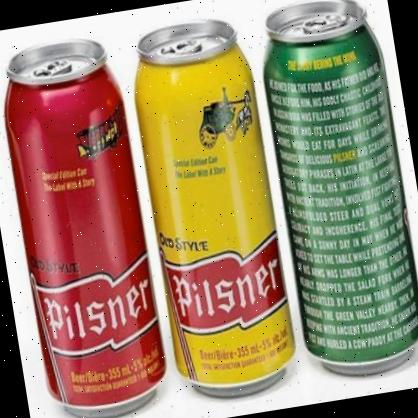can: (122, 10, 306, 406), (0, 27, 178, 418), (250, 0, 418, 384)
